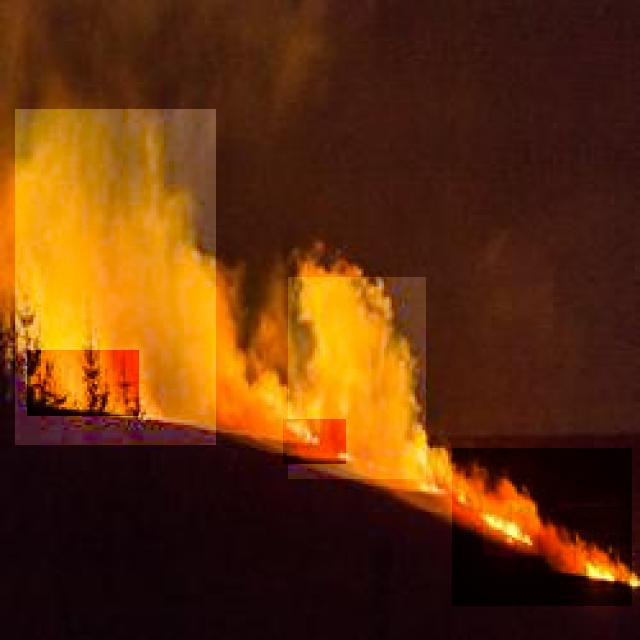Fire: (27, 350, 139, 416), (483, 500, 538, 556), (283, 419, 346, 464), (584, 553, 618, 588)
Smoke: (15, 109, 216, 445), (452, 448, 632, 606), (288, 277, 426, 479)
